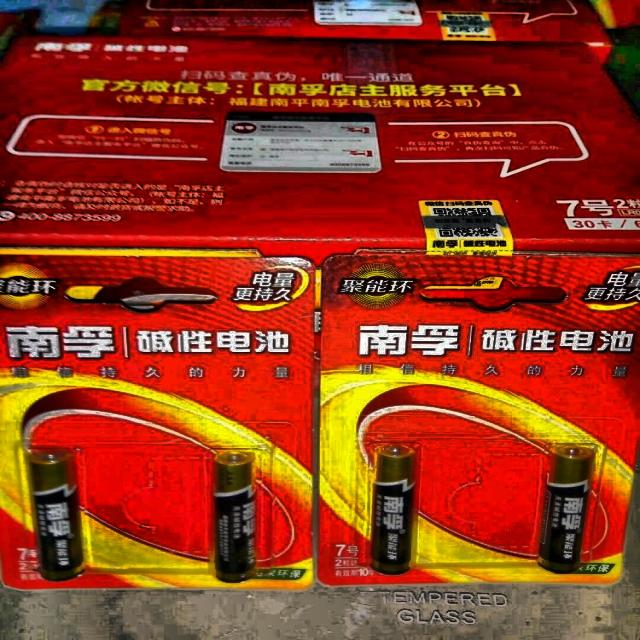Non-Valuable Waste - Batteries: (538, 444, 595, 573), (30, 450, 83, 580), (372, 444, 415, 574), (215, 450, 255, 582)
